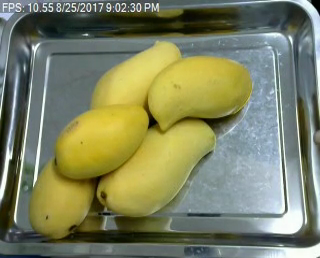Mango: (92, 111, 218, 218), (148, 51, 258, 129), (49, 103, 149, 181), (92, 37, 183, 120), (26, 153, 102, 239)
